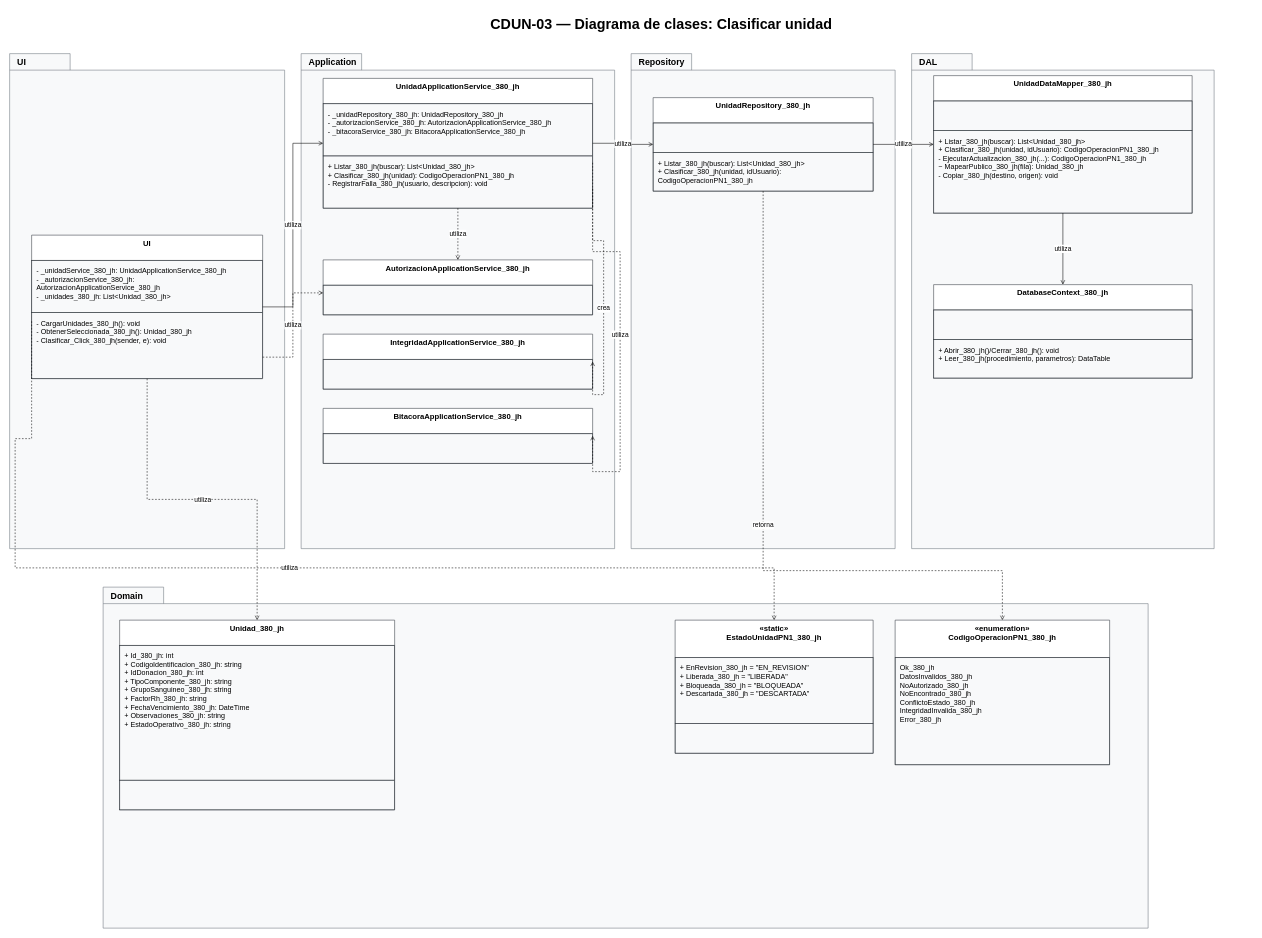
Some shapes in this 1262 by 938 pixel diagram are drawn without their labels. The centre of each missing label's shape, as x and y in pixels:
+ Conexion_380_jh: SqlConnection: the point at 1062,324
+ EsEstadoFinal_380_jh(estado): bool: the point at 774,738
+ EstaClasificada_380_jh: bool: the point at 257,795
+ RegistrarEvento_380_jh(...): bool: the point at 458,448
+ TienePermiso_380_jh(usuario, codigo): bool: the point at 458,300
+ Verificar_380_jh(): InformeIntegridad_380_jh: the point at 458,374
- _databaseContext_380_jh: DatabaseContext_380_jh: the point at 1062,115
- _unidadDataMapper_380_jh: UnidadDataMapper_380_jh: the point at 763,137
